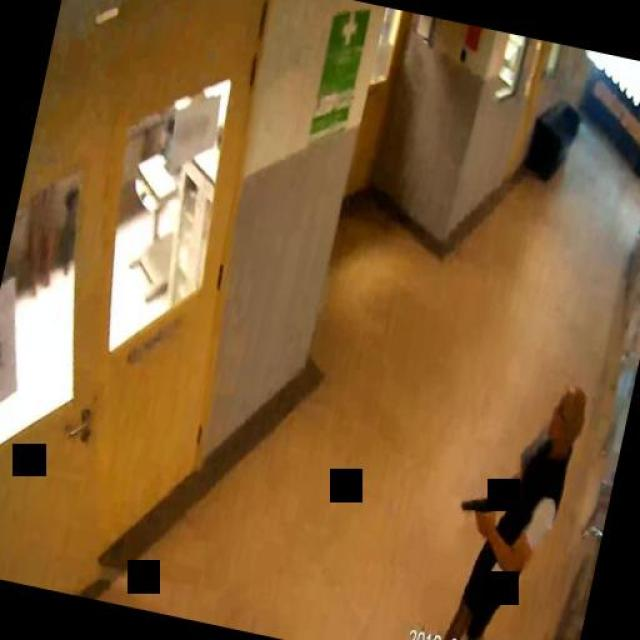gun: (455, 487, 495, 535)
